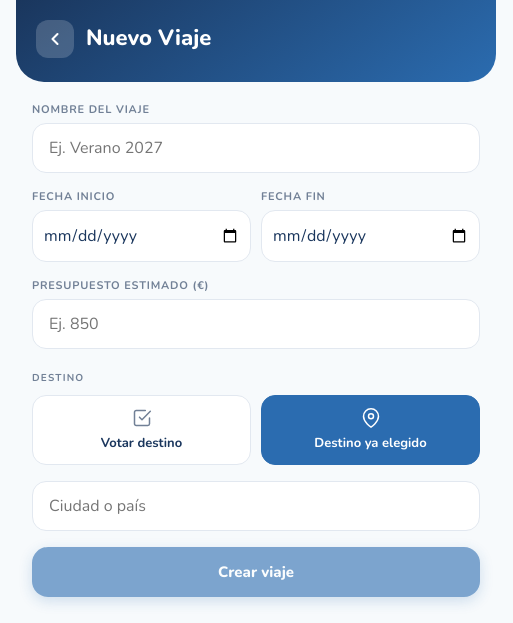
Test case: CrearViaje · nombre por defecto › con «Votar destino» y sin nombre no deja crear: no hay destino que lo sugiera
Click the radio button labelled "Votar destino": click(142, 430) top-left (32, 395), bottom-right (251, 465)
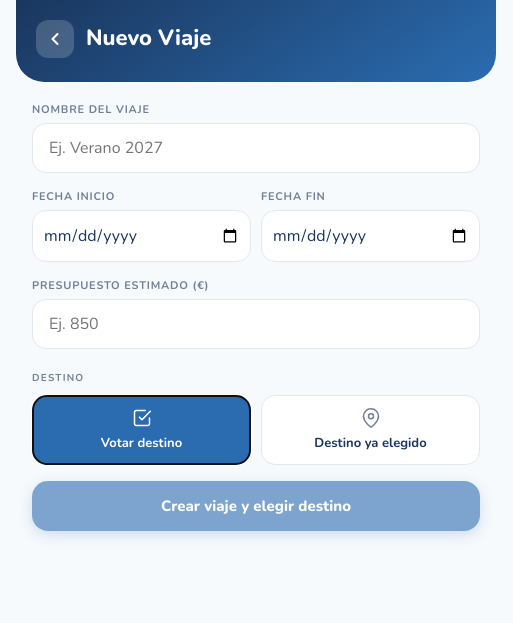
In the number field labelled "Presupuesto estimado (€)": (256, 324) top-left (32, 299), bottom-right (480, 349), type "850"
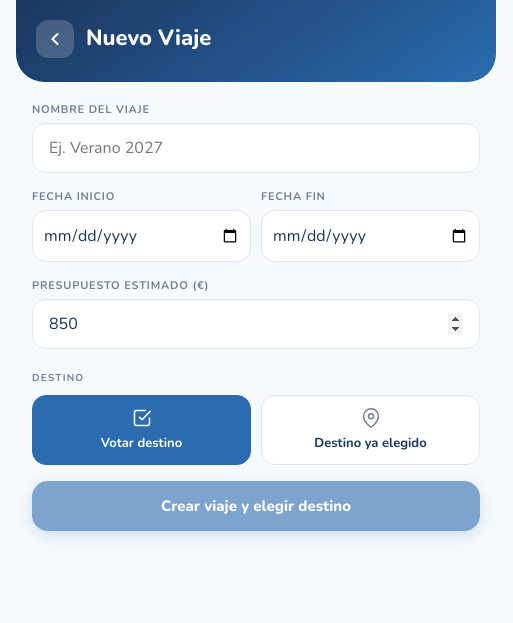
Expected: the button "Crear viaje y elegir destino" is disabled, top-left (32, 481), bottom-right (480, 531)
In the field labelled "Nombre del viaje": (256, 148) top-left (32, 123), bottom-right (480, 173), type "Verano 2027"
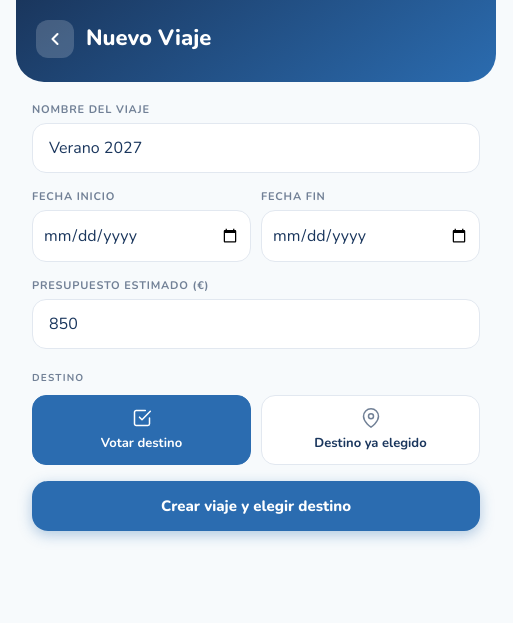
Result: the button "Crear viaje y elegir destino" is enabled at top-left (32, 481), bottom-right (480, 531)
